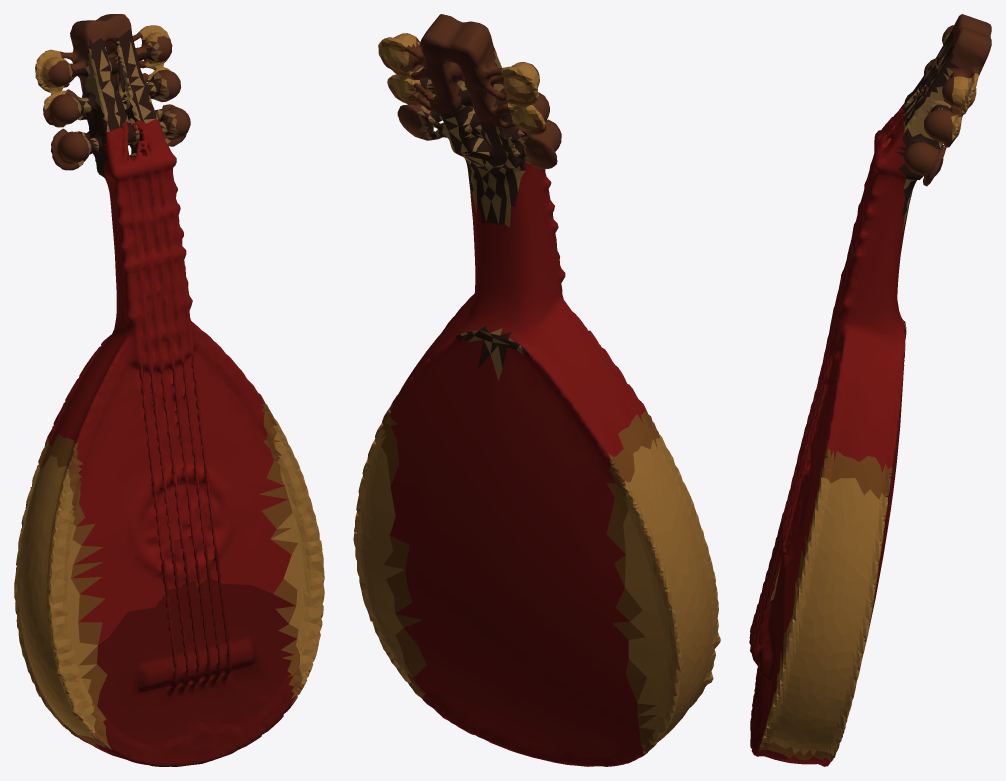
File: alaude.glb
The picture shows the model from 3 angles, left to right: view 1: azimuth 30°, elevation 25°; view 2: azimuth 150°, elevation 25°; view 3: azimuth 270°, elevation 25°; orthographic projection. The views are drawn at different scales.
Parts seen in each view (by area): view 1: tmp2wrimyyt.ply; view 2: tmp2wrimyyt.ply; view 3: tmp2wrimyyt.ply.
Boxes of the visible parts, left/top/right/bottom form: tmp2wrimyyt.ply: left=14, top=14, right=324, bottom=766; tmp2wrimyyt.ply: left=353, top=14, right=720, bottom=766; tmp2wrimyyt.ply: left=749, top=14, right=991, bottom=766.
Size of the model in its own units: 0.8413 by 1.96 by 0.5966.
